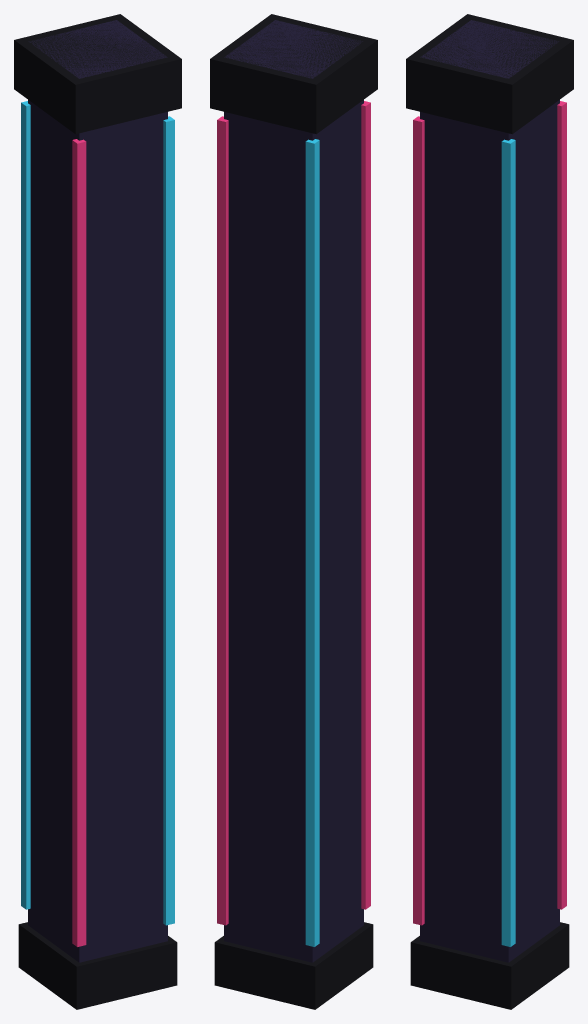
File: Wall_Corner.obj
3 views of the same model, side by side, from view 1: azimuth 30°, elevation 25°; view 2: azimuth 150°, elevation 25°; view 3: azimuth 330°, elevation 25° (orthographic).
Parts seen in each view (by area): view 1: Wall_Corner; view 2: Wall_Corner; view 3: Wall_Corner.
Boxes of the visible parts, box(x1,y1,x2,y2) form: Wall_Corner: box(14, 14, 181, 1009); Wall_Corner: box(210, 14, 377, 1009); Wall_Corner: box(406, 14, 573, 1009).
Size of the model in its own units: 0.36 by 3 by 0.36.
